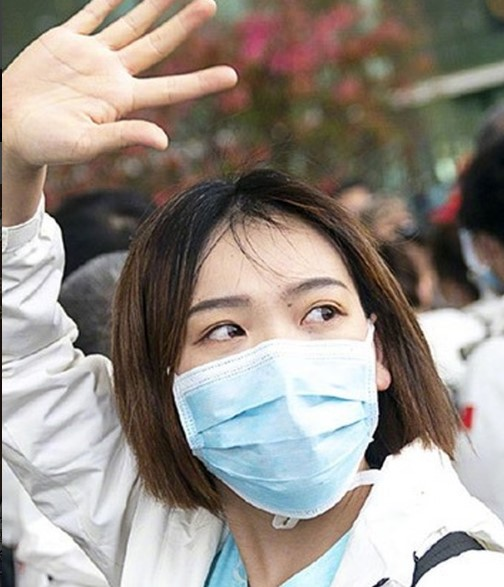face_with_mask: (136, 176, 400, 529)
